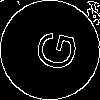G: (25, 25, 79, 74)
